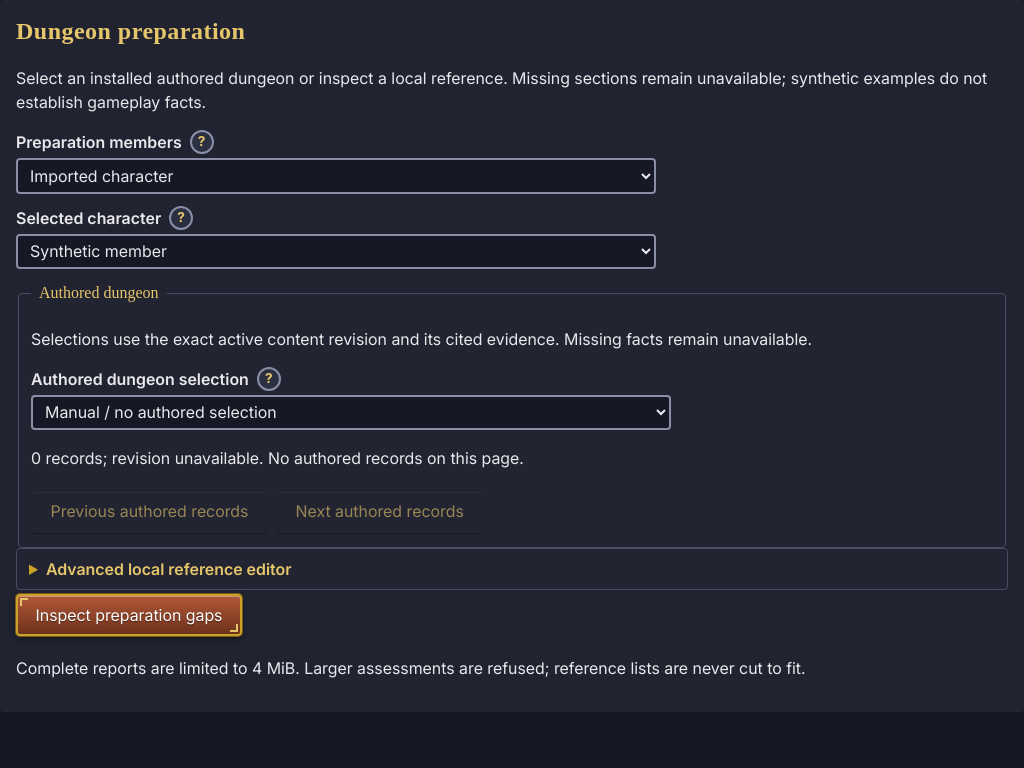
Test: authored travel displays known without inventing an ordered route
What coordinates should you click on to do the following:
click the button "Inspect preparation gaps"
I would click on:
 (129, 615)
Its box is [16, 594, 242, 636].
(page scrolled)
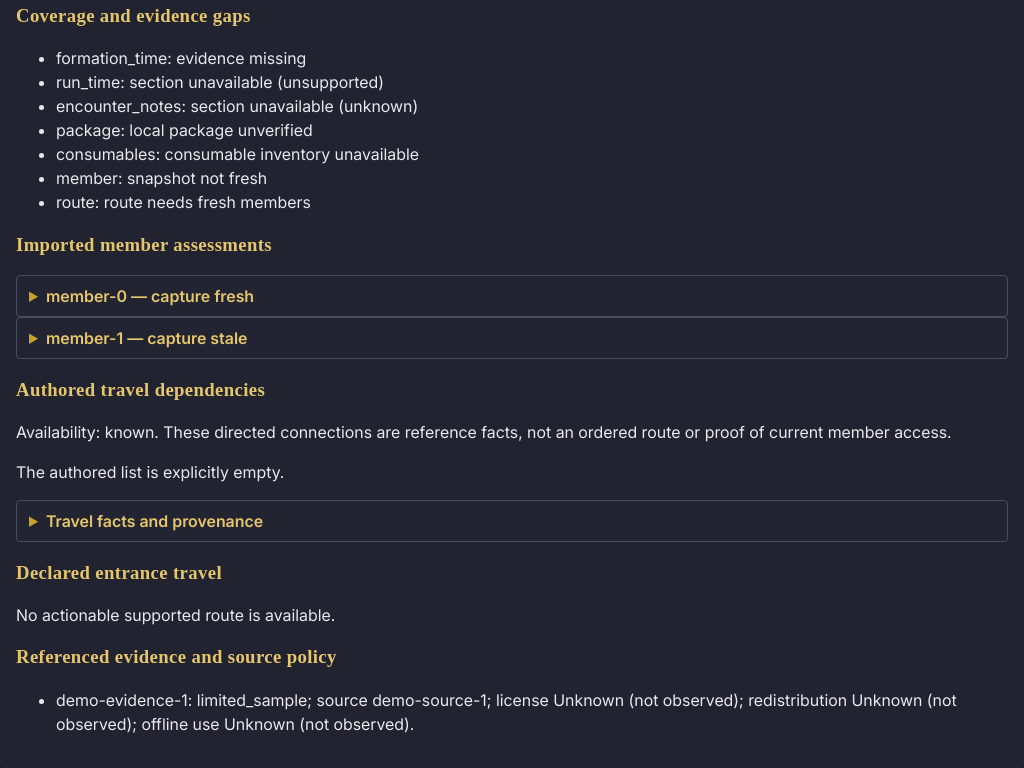
Now the text "The authored list is explicitly empty." is shown, box [16, 462, 284, 482]
